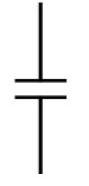Capacitor: (10, 65, 67, 120)
